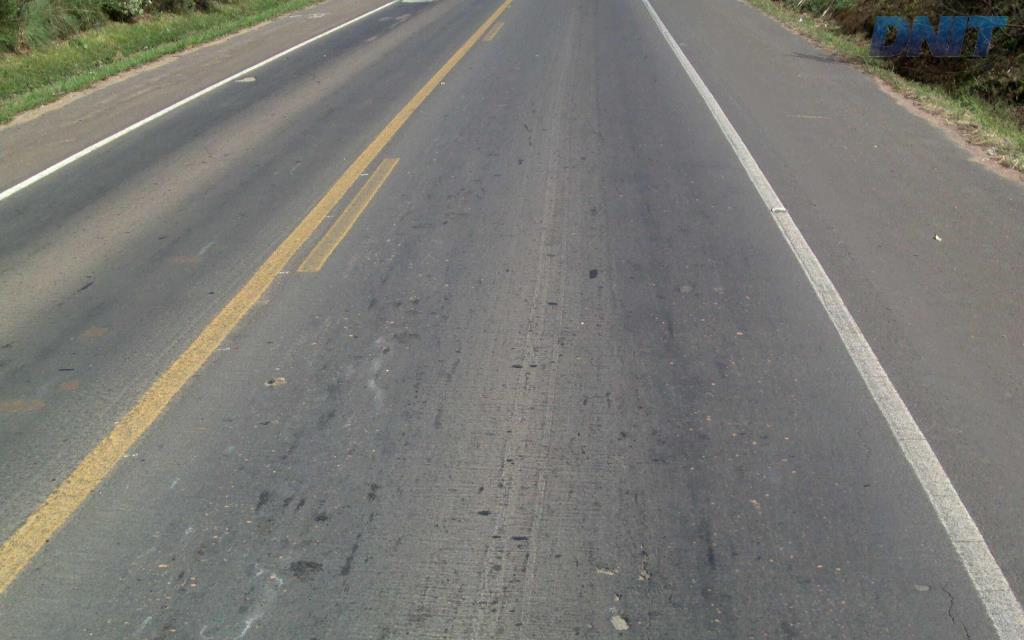pothole: (605, 610, 637, 637), (582, 561, 622, 579)
